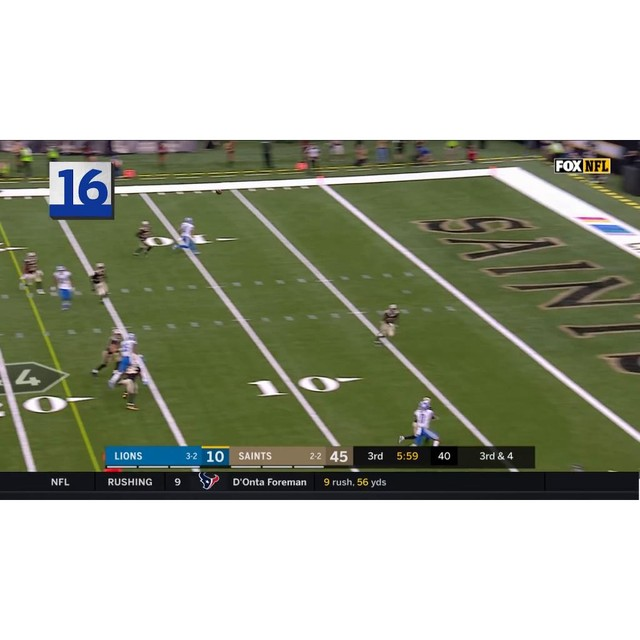american-football-player: (91, 326, 124, 379), (108, 332, 138, 390), (410, 398, 442, 446), (119, 357, 146, 411), (51, 263, 76, 311), (18, 251, 45, 295), (373, 302, 399, 345), (172, 216, 200, 254), (86, 262, 111, 303), (132, 220, 155, 258)
